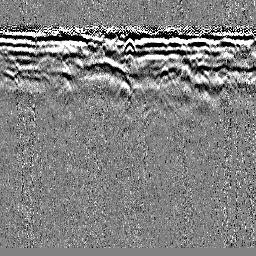cavity: (121, 38, 137, 51)
